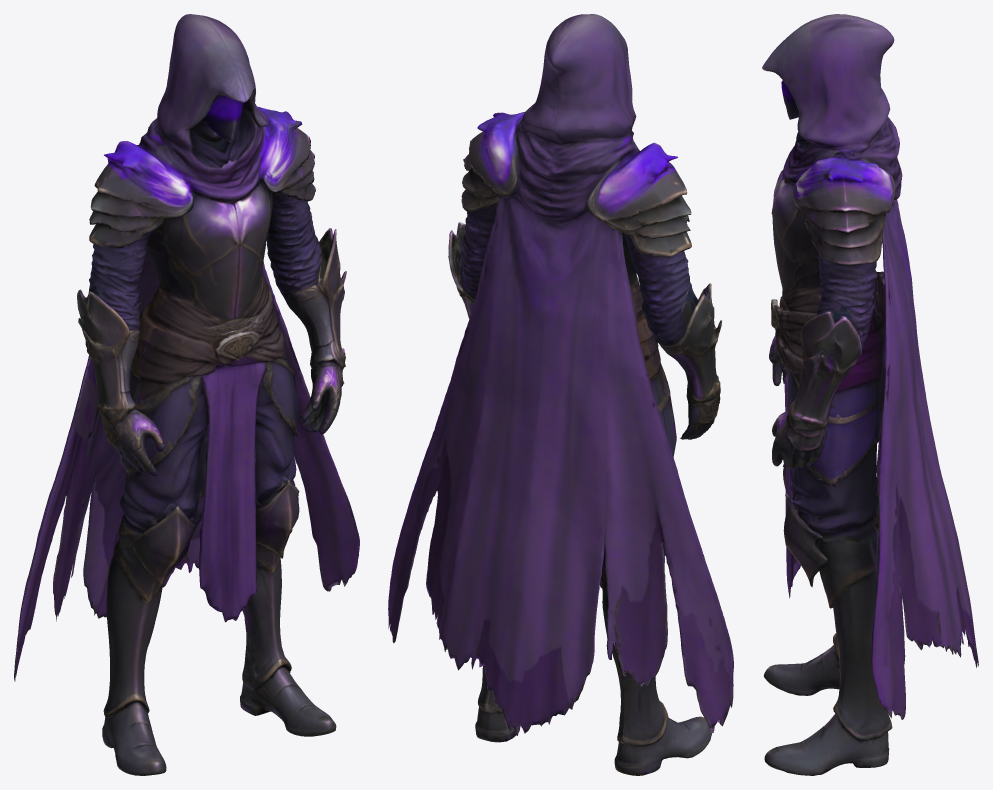
File: Meshy_AI_Shadow_Enchanter_1115233000_texture.glb
3 renders of one model, left to right at view 1: azimuth 30°, elevation 25°; view 2: azimuth 150°, elevation 25°; view 3: azimuth 270°, elevation 25°, orthographic.
Bounding box in the file's own units: 1 × 2 × 0.5534.
Materials: 1 (1 with a texture image).
